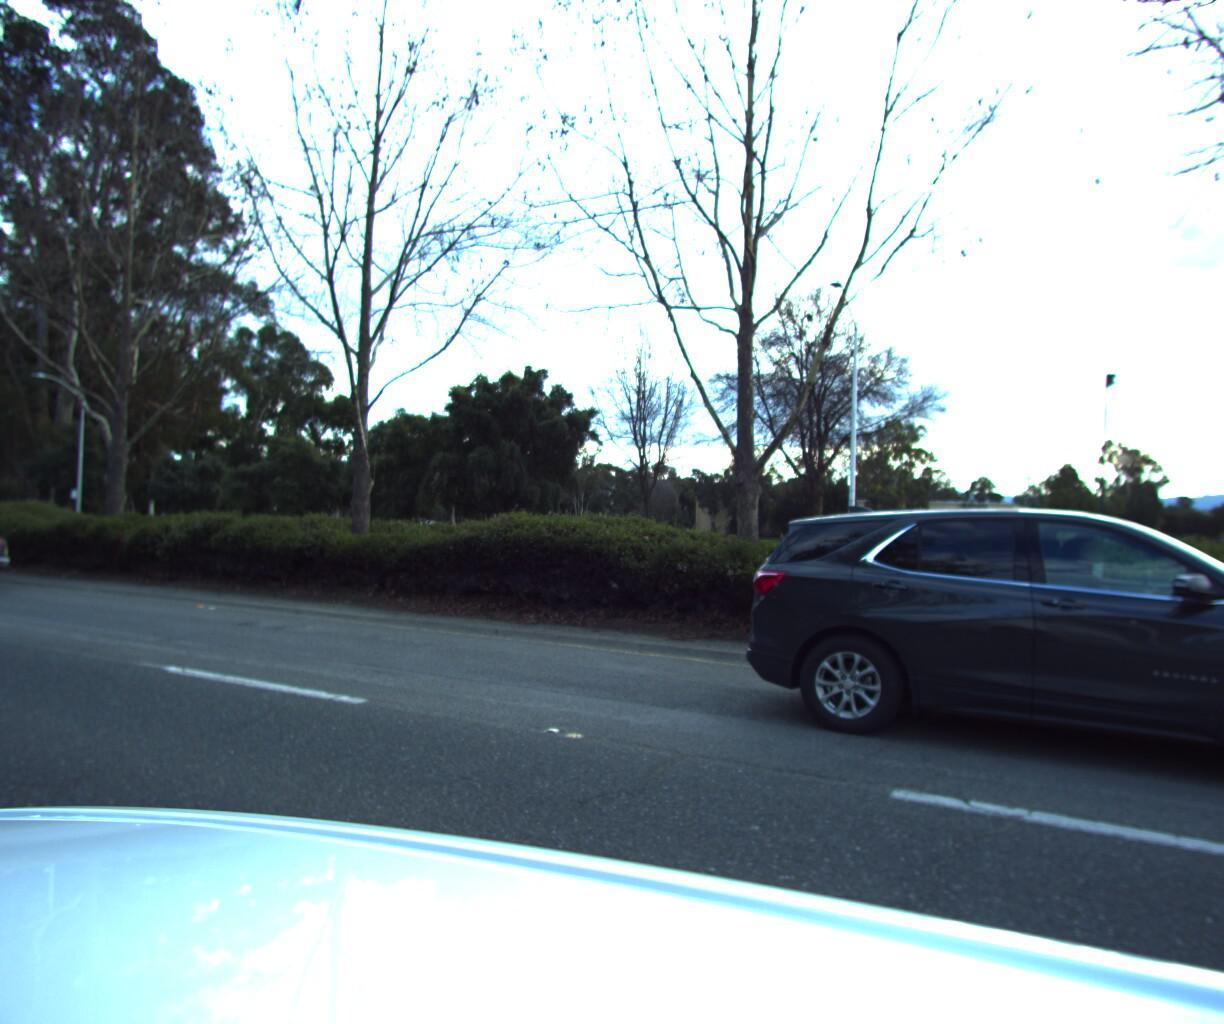car: (714, 497, 1224, 834), (0, 490, 26, 597)
